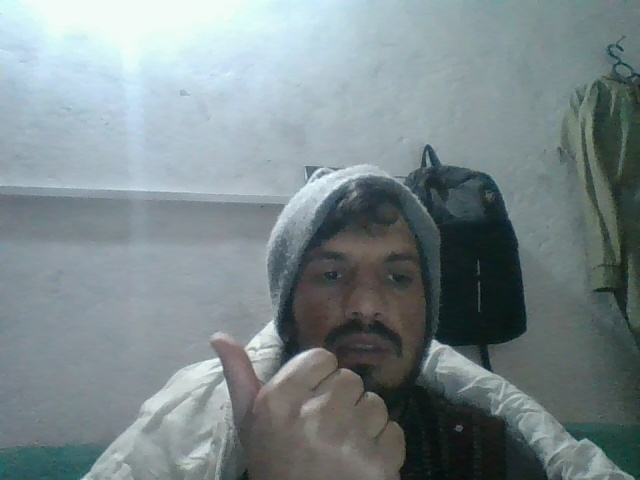ThumbsUp: (205, 329, 422, 480)
